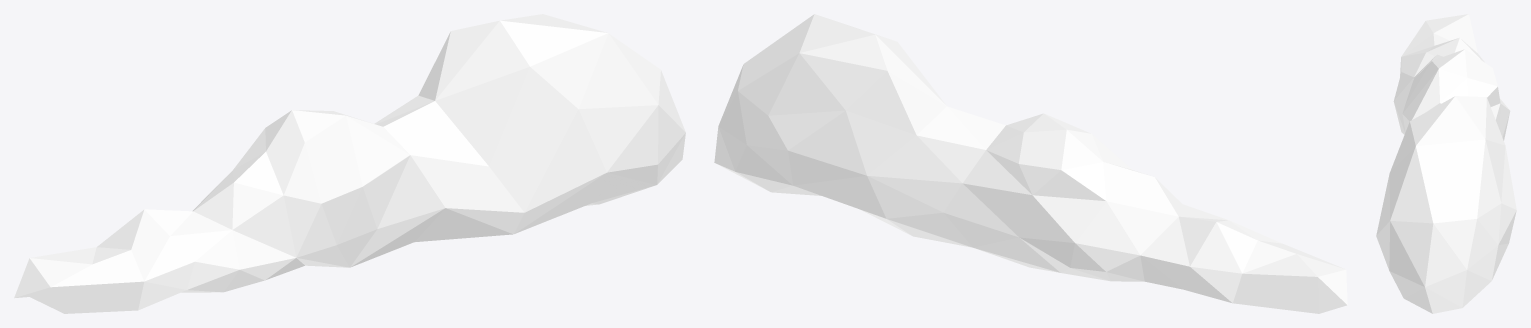
File: cloud-long.glb
3 renders of one model, left to right at view 1: azimuth 30°, elevation 25°; view 2: azimuth 150°, elevation 25°; view 3: azimuth 270°, elevation 25°, orthographic. The views are drawn at different scales.
Parts seen in each view (by area): view 1: cloud-long; view 2: cloud-long; view 3: cloud-long.
Part boxes in pixels (x1,y1,x2,y2): cloud-long: (14, 14, 685, 313); cloud-long: (714, 14, 1347, 313); cloud-long: (1376, 14, 1516, 313).
Bounding box in the file's own units: 12.84 × 3.65 × 2.78.
Materials: 1 (1 with a texture image).
